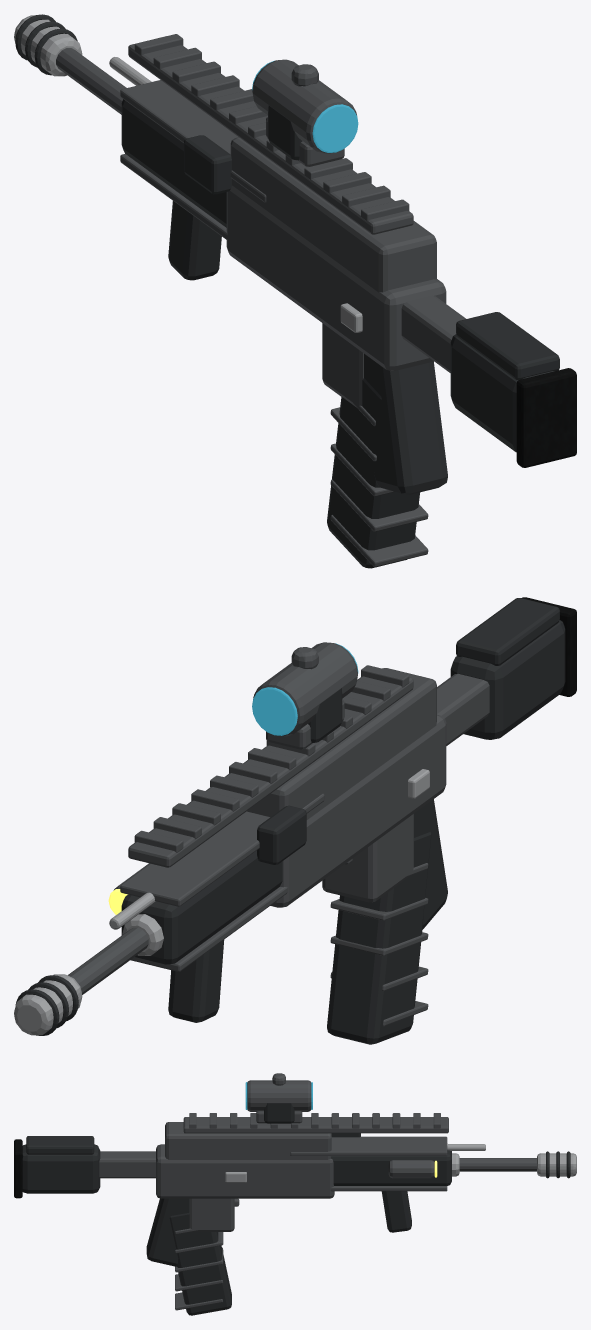
The model's file is rifle.glb.
3 renders of one model, top to bottom at view 1: azimuth 30°, elevation 25°; view 2: azimuth 150°, elevation 25°; view 3: azimuth 270°, elevation 25°, orthographic. The views are drawn at different scales.
Visible parts, largest first — view 1: Receiver_Lower.002, Receiver_Upper.002, PistolGrip.002, Magazine_Curved.002, TopRail.002, Buttpad.002, Stock.002, Handguard.002, CheekRest.002, OpticTube.002, SideRail_0.002, Foregrip.002 (+11 smaller); view 2: Magazine_Curved.002, Receiver_Lower.002, Receiver_Upper.002, Handguard.002, Stock.002, TopRail.002, SideRail_0.002, MagWell.002, CheekRest.002, OpticTube.002, Foregrip.002, BufferTube.002 (+21 smaller); view 3: Receiver_Lower.002, Receiver_Upper.002, Magazine_Curved.002, TopRail.002, Stock.002, Handguard.002, SideRail_0.002, PistolGrip.002, OpticTube.002, BufferTube.002, MagWell.002, CheekRest.002 (+8 smaller).
Part boxes in pixels (box(x1,y1,x2,y2)): Receiver_Lower.002: box(226, 185, 446, 370); Receiver_Upper.002: box(230, 137, 436, 292); PistolGrip.002: box(364, 353, 447, 494); Magazine_Curved.002: box(327, 378, 419, 568); TopRail.002: box(128, 36, 413, 234); Buttpad.002: box(516, 368, 576, 467); Stock.002: box(450, 334, 554, 452); Handguard.002: box(121, 99, 226, 227); CheekRest.002: box(456, 312, 559, 380); OpticTube.002: box(252, 59, 356, 153); SideRail_0.002: box(120, 80, 266, 202); Foregrip.002: box(168, 201, 221, 280); Magazine_Curved.002: box(327, 832, 431, 1044); Receiver_Lower.002: box(270, 714, 446, 907); Receiver_Upper.002: box(247, 668, 436, 819); Handguard.002: box(121, 850, 282, 964); Stock.002: box(450, 620, 565, 739); TopRail.002: box(128, 676, 413, 867); SideRail_0.002: box(120, 793, 324, 906); MagWell.002: box(322, 814, 413, 902); CheekRest.002: box(456, 598, 559, 665); OpticTube.002: box(253, 642, 357, 736); Foregrip.002: box(168, 940, 224, 1022); BufferTube.002: box(437, 673, 489, 745); Receiver_Lower.002: box(156, 1144, 334, 1198); Receiver_Upper.002: box(165, 1122, 331, 1159); Magazine_Curved.002: box(169, 1213, 231, 1315); TopRail.002: box(183, 1117, 448, 1133); Stock.002: box(22, 1144, 100, 1193); Handguard.002: box(331, 1150, 451, 1185); SideRail_0.002: box(290, 1136, 447, 1155); PistolGrip.002: box(146, 1198, 189, 1266); OpticTube.002: box(247, 1080, 311, 1111); BufferTube.002: box(99, 1151, 155, 1178); MagWell.002: box(189, 1198, 234, 1231); CheekRest.002: box(26, 1136, 94, 1154).
Bounding box in the file's own units: 0.101 × 0.4219 × 0.9125.
Materials: 6 (1 with a texture image).
